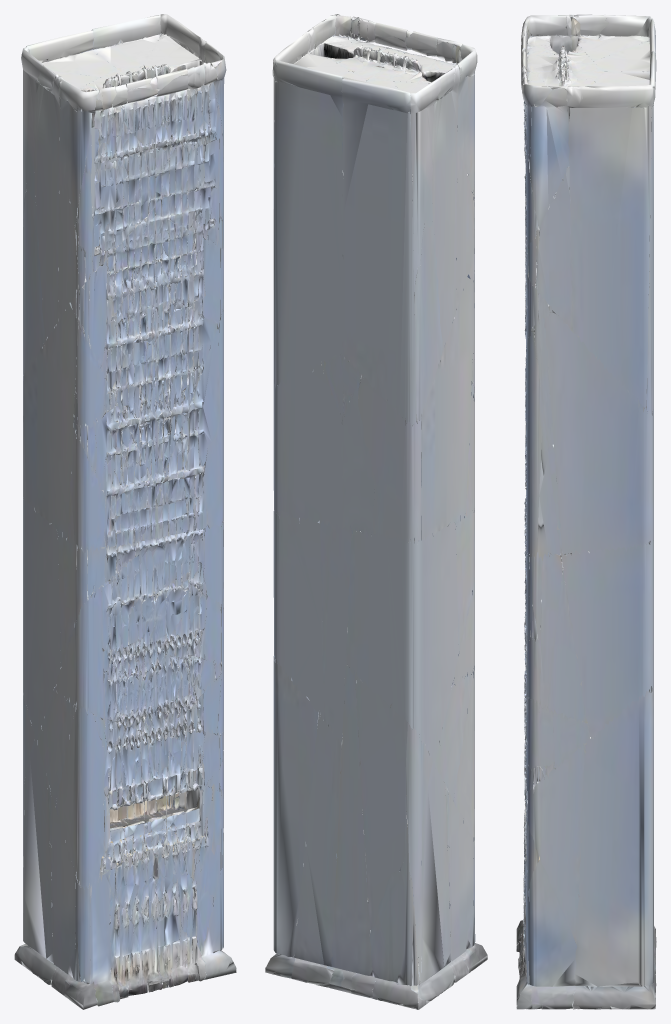
File: burj-vista-1.glb
3 renders of one model, left to right at view 1: azimuth 30°, elevation 25°; view 2: azimuth 150°, elevation 25°; view 3: azimuth 270°, elevation 25°, orthographic.
Parts seen in each view (by area): view 1: Mesh_0; view 2: Mesh_0; view 3: Mesh_0.
Boxes of the visible parts, box(x1,y1,x2,y2) form: Mesh_0: box(14, 14, 236, 1009); Mesh_0: box(265, 14, 487, 1009); Mesh_0: box(516, 14, 656, 1009).
Bounding box in the file's own units: 45 × 255 × 35.
Materials: 1 (1 with a texture image).
